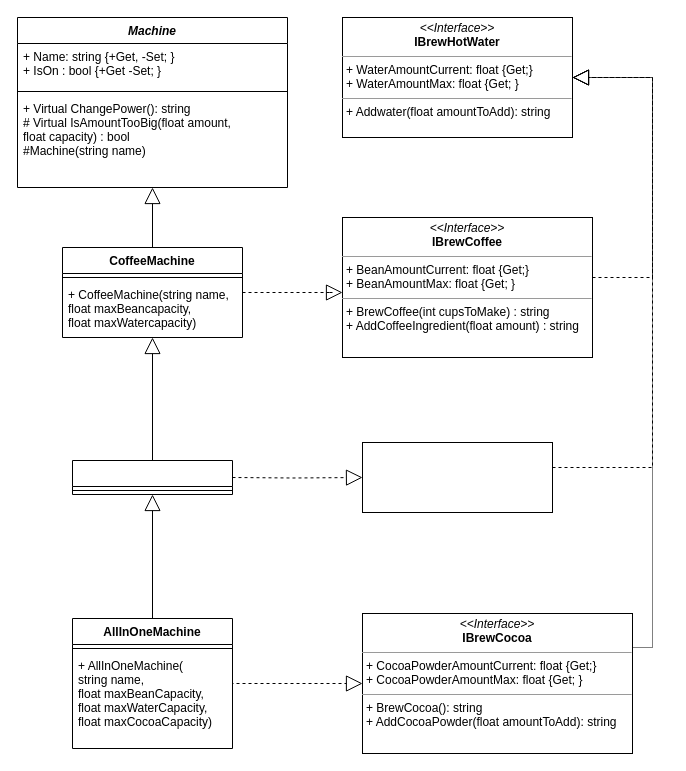
Some shapes in this 686 by 771 pixel diagram are drawn without their labels. The centre of each missing label's shape, as x and y in pixels:
<<Interface>> IBrewTea + BrewTea(int cupsToMake): string: (457,477)
CombiMachine: (152,477)
